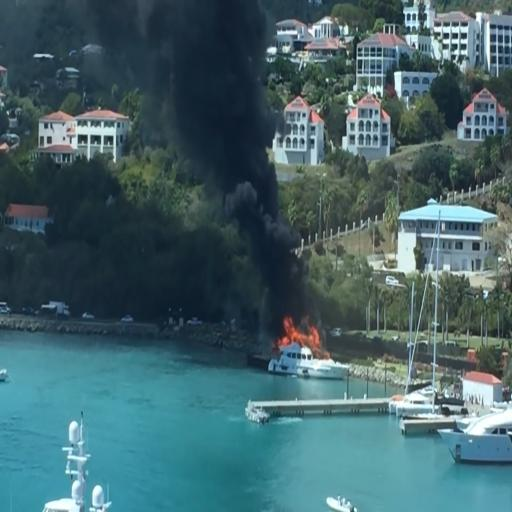fire: (282, 307, 318, 353)
smoke: (187, 25, 267, 198), (141, 0, 258, 91), (232, 154, 292, 270)
